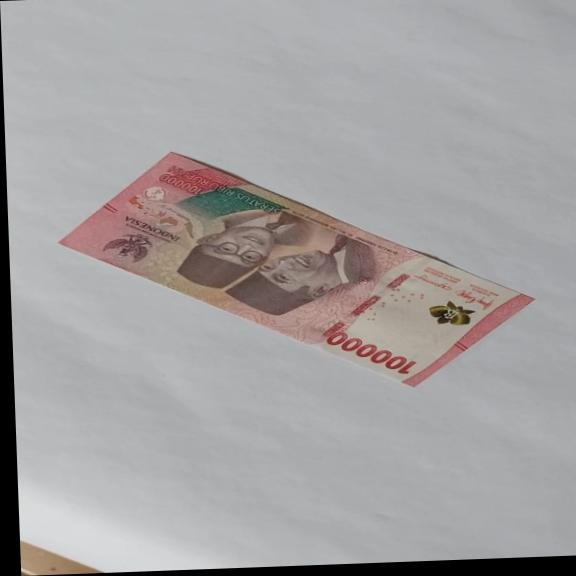Kertas: (52, 137, 537, 400), (324, 328, 418, 377)
